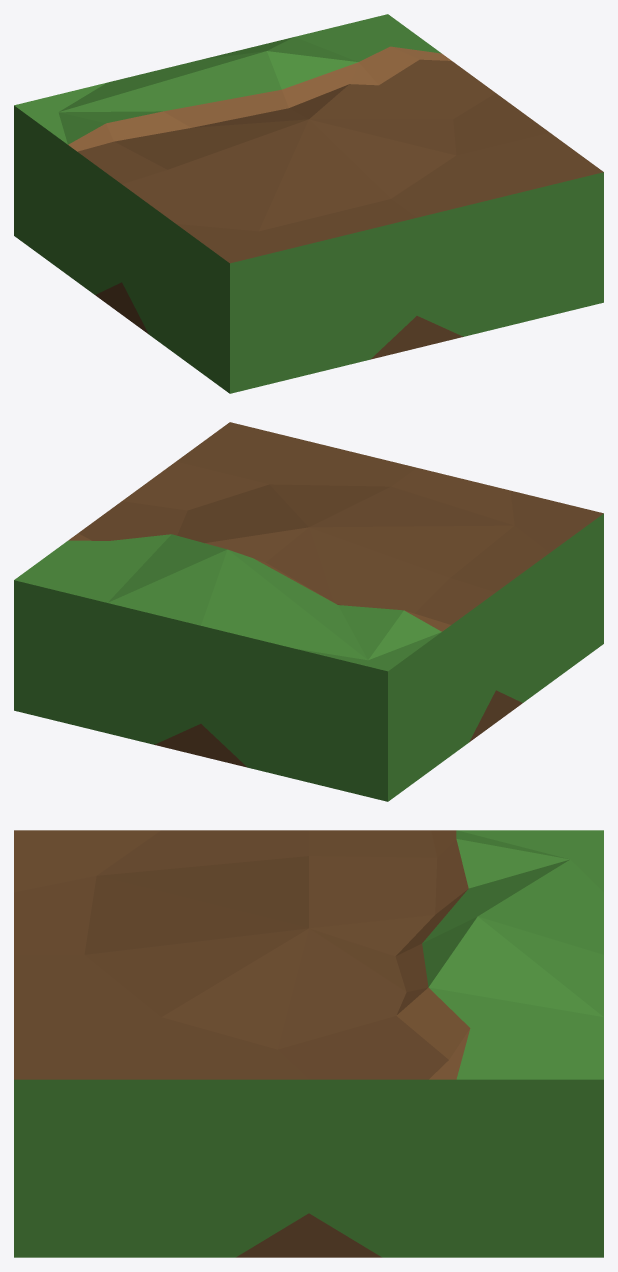
Rendered from grass_dirt_edge_4.fbx.
The picture shows the model from 3 angles, top to bottom: view 1: azimuth 30°, elevation 25°; view 2: azimuth 150°, elevation 25°; view 3: azimuth 270°, elevation 25°; orthographic projection. The views are drawn at different scales.
Visible parts, largest first — view 1: Dirt_Grass_Edge_4; view 2: Dirt_Grass_Edge_4; view 3: Dirt_Grass_Edge_4.
Part boxes in pixels (x1=…): Dirt_Grass_Edge_4: x1=14, y1=14, x2=603, y2=393; Dirt_Grass_Edge_4: x1=14, y1=422, x2=603, y2=801; Dirt_Grass_Edge_4: x1=14, y1=830, x2=603, y2=1257.
Size of the model in its own units: 300 by 140 by 300.
